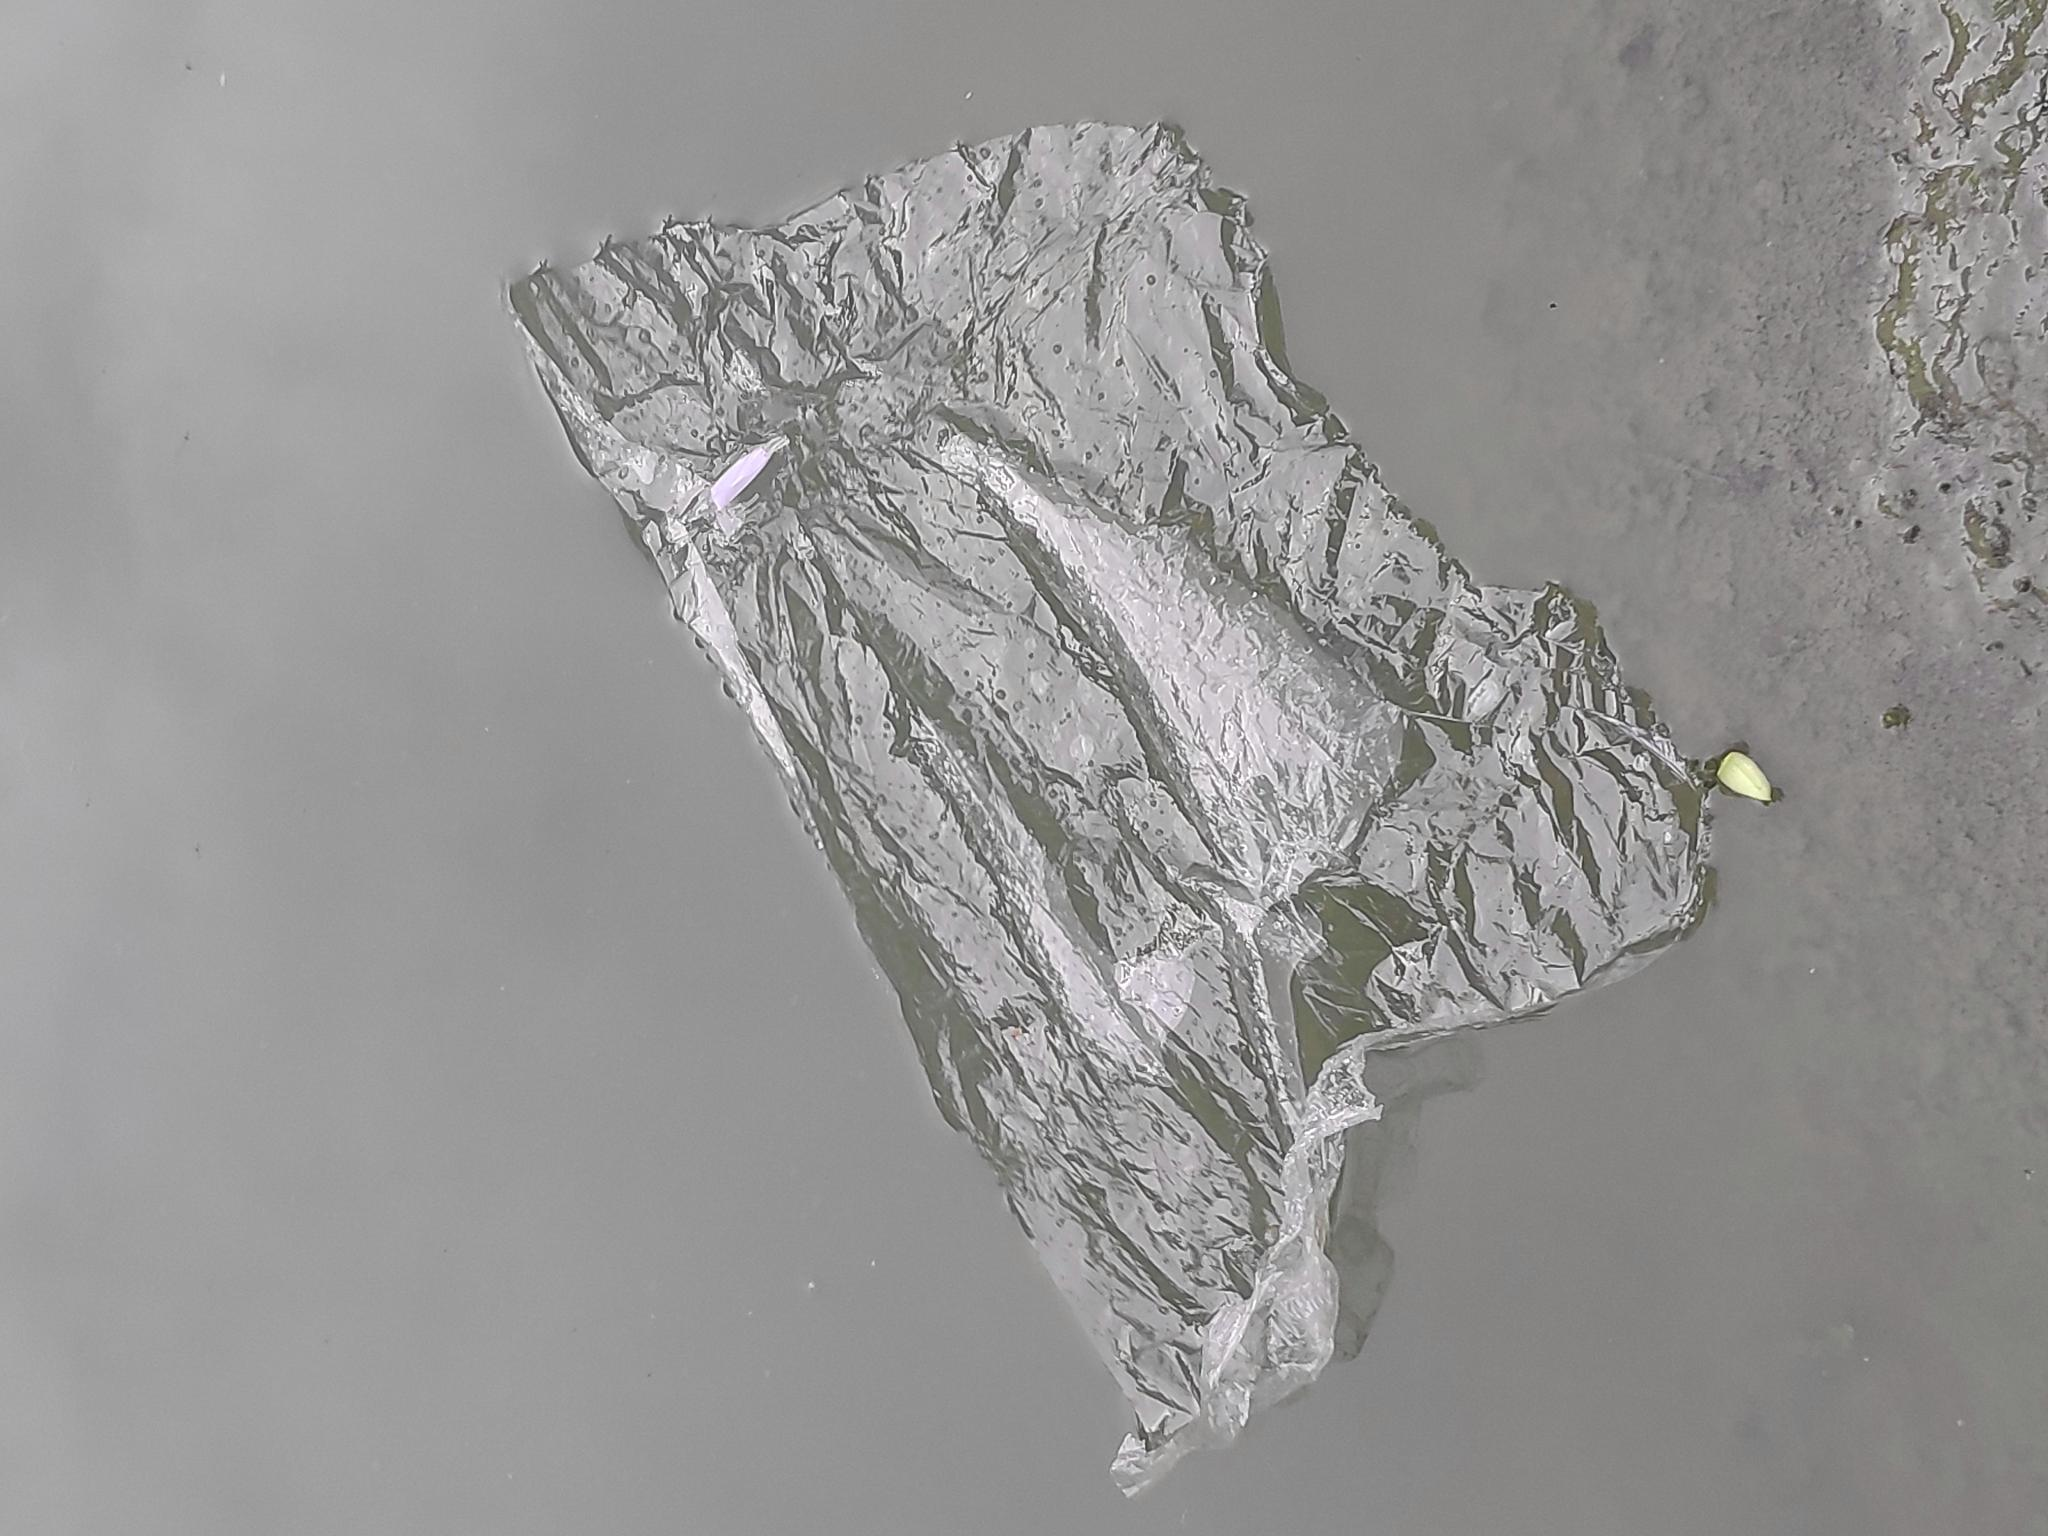Trash: (492, 115, 1724, 1497)
